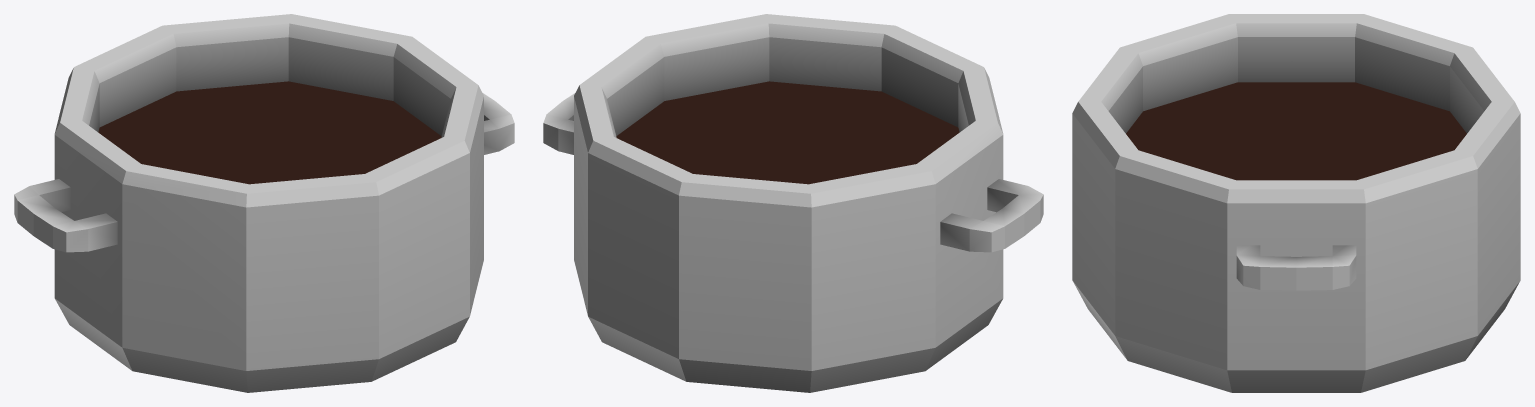
File: pq_marmite_soupe.glb
3 renders of one model, left to right at view 1: azimuth 30°, elevation 25°; view 2: azimuth 150°, elevation 25°; view 3: azimuth 270°, elevation 25°, orthographic. The views are drawn at different scales.
Visible parts, largest first — view 1: CookingPot_Soup; view 2: CookingPot_Soup; view 3: CookingPot_Soup.
Part boxes in pixels (x1,y1,x2,y2): CookingPot_Soup: (14,14,514,392); CookingPot_Soup: (543,14,1043,392); CookingPot_Soup: (1072,14,1520,392).
Bounding box in the file's own units: 0.5077 × 0.2259 × 0.4184.
